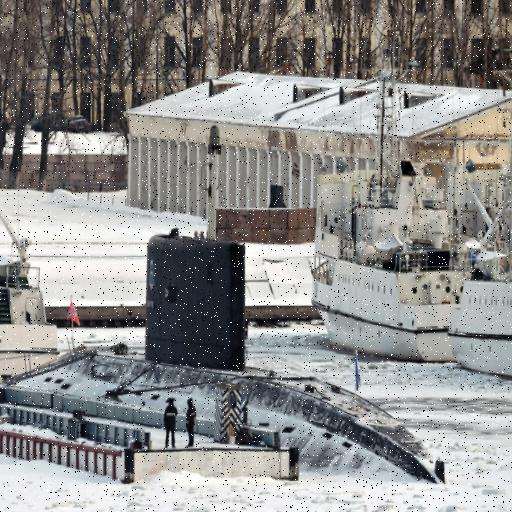submarine: (6, 232, 451, 488)
